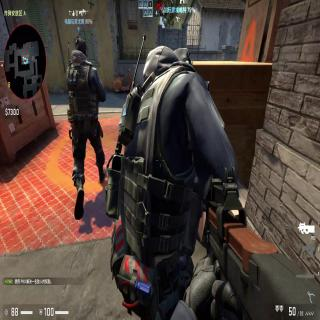CT-Body: (64, 35, 107, 217)
CT-Head: (73, 35, 89, 63)
